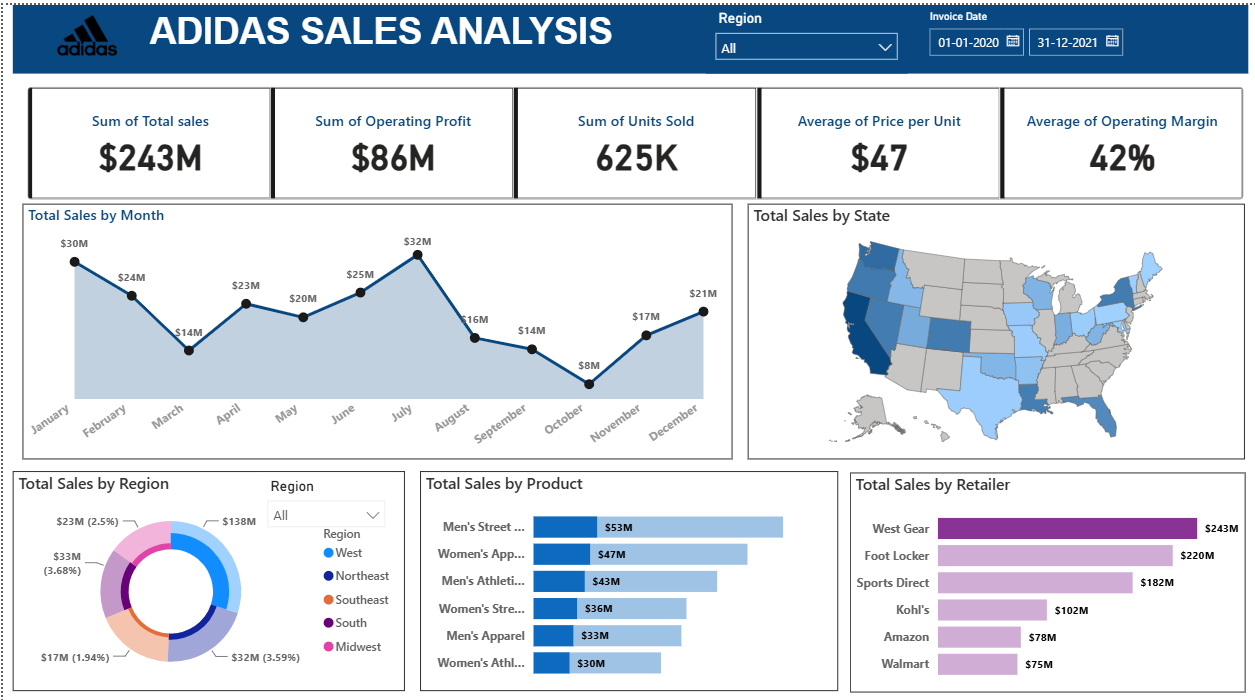

This screenshot's page, from the dashboard's own definition file:
{"tool":"powerbi","page":{"name":"Page 1","canvas":[1280,720],"ordinal":0},"visuals":[{"type":"cardVisual","title":"Sum of total sa","fields":{"Data":["Sum(Table 1 (Data Sales Adidas).Total Sales)","Sum(Table 1 (Data Sales Adidas).Operating Profit)","Sum(Table 1 (Data Sales Adidas).Units Sold)","Avg(Table 1 (Data Sales Adidas).Price per Unit)","Avg(Table 1 (Data Sales Adidas).Operating Margin)"]},"box":[19.8,77.9,1255.8,125.6],"z":0},{"type":"areaChart","fields":{"Category":["Table 1 (Data Sales Adidas).Invoice Date.Variation.Date Hierarchy.Month"],"Y":["Sum(Table 1 (Data Sales Adidas).Total Sales)"]},"box":[19.8,203.5,724.4,260.5],"z":1000},{"type":"shapeMap","title":"Total Sales by State","fields":{"Category":["Table 1 (Data Sales Adidas).State"],"Value":["Sum(Table 1 (Data Sales Adidas).Total Sales)"]},"box":[760.5,203.5,507,260.5],"z":2000},{"type":"donutChart","fields":{"Category":["Table 1 (Data Sales Adidas).Region"],"Y":["Sum(Table 1 (Data Sales Adidas).Total Sales)"]},"box":[10.5,475.6,400,224.4],"z":3000},{"type":"barChart","fields":{"Category":["Table 1 (Data Sales Adidas).Product"],"Y":["Sum(Table 1 (Data Sales Adidas).Total Sales)"]},"box":[425.6,475.6,426.7,224.4],"z":4000},{"type":"barChart","title":"   Total Sales by Retailer","fields":{"Y":["Sum(Table 1 (Data Sales Adidas).Total Sales)"],"Category":["Table 1 (Data Sales Adidas).Retailer"]},"box":[864,476.7,403.5,224.4],"z":5000},{"type":"slicer","fields":{"Values":["Table 1 (Data Sales Adidas).Region"]},"box":[519.7,204.2,299.6,64.8],"z":6000},{"type":"image","box":[33,12.2,106.4,45.2],"z":7000},{"type":"slicer","fields":{"Values":["Table 1 (Data Sales Adidas).Region"]},"box":[796.1,4.9,193.2,59.9],"z":8000},{"type":"slicer","fields":{"Values":["Table 1 (Data Sales Adidas).Invoice Date"]},"box":[1000.3,4.9,256.8,59.9],"z":9000},{"type":"textbox","box":[9.8,0,1260.7,69.7],"z":10000},{"type":"image","box":[33,4.9,106.4,52.6],"z":10001},{"type":"slicer","fields":{"Values":["Table 1 (Data Sales Adidas).Region"]},"box":[716.6,0,205.4,69.7],"z":10002},{"type":"slicer","fields":{"Values":["Table 1 (Data Sales Adidas).Invoice Date"]},"box":[933,0,223.8,64.8],"z":10003}]}

Visuals, with their boxes in screenshot pixels (x1, y1, x2, y2), scaled from the page's 1280x720 canvas onto the 1255x700 screenshot:
"Sum of total sa" cardVisual: bbox=(19, 76, 1251, 198)
areaChart - Table 1 (Data Sales Adidas).Invoice Date.Variation.Date Hierarchy.Month x Sum(Table 1 (Data Sales Adidas).Total Sales): bbox=(19, 198, 730, 451)
"Total Sales by State" shapeMap: bbox=(746, 198, 1243, 451)
donutChart - Table 1 (Data Sales Adidas).Region x Sum(Table 1 (Data Sales Adidas).Total Sales): bbox=(10, 462, 402, 681)
barChart - Table 1 (Data Sales Adidas).Product x Sum(Table 1 (Data Sales Adidas).Total Sales): bbox=(417, 462, 836, 681)
"   Total Sales by Retailer" barChart: bbox=(847, 463, 1243, 682)
slicer - Table 1 (Data Sales Adidas).Region: bbox=(510, 199, 803, 262)
image: bbox=(32, 12, 137, 56)
slicer - Table 1 (Data Sales Adidas).Region: bbox=(781, 5, 970, 63)
slicer - Table 1 (Data Sales Adidas).Invoice Date: bbox=(981, 5, 1233, 63)
textbox: bbox=(10, 0, 1246, 68)
image: bbox=(32, 5, 137, 56)
slicer - Table 1 (Data Sales Adidas).Region: bbox=(703, 0, 904, 68)
slicer - Table 1 (Data Sales Adidas).Invoice Date: bbox=(915, 0, 1134, 63)
